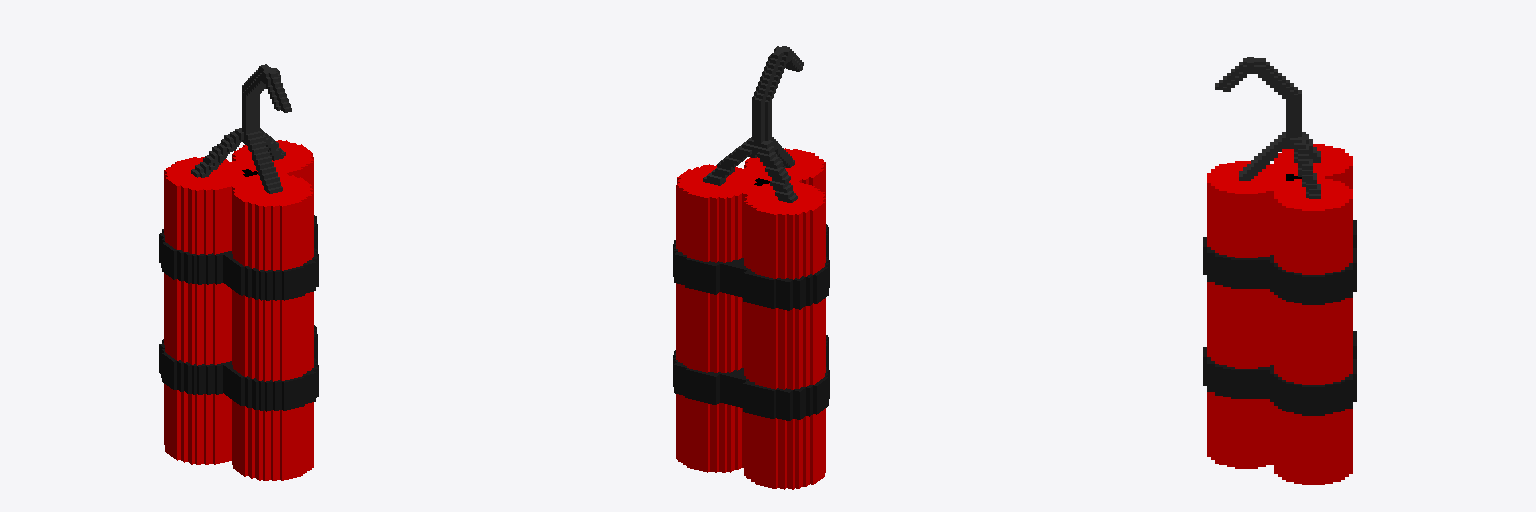
3 views of the same model, side by side, from view 1: azimuth 30°, elevation 25°; view 2: azimuth 150°, elevation 25°; view 3: azimuth 270°, elevation 25° (orthographic).
Visible parts, largest first — view 1: object 1; view 2: object 1; view 3: object 1.
Part boxes in pixels (x1,y1,x2,y2): object 1: (159, 64, 318, 480); object 1: (673, 46, 829, 489); object 1: (1203, 57, 1356, 484).
Bounding box in the file's own units: 4.2 × 11 × 3.9.
1 materials, 1 textured.